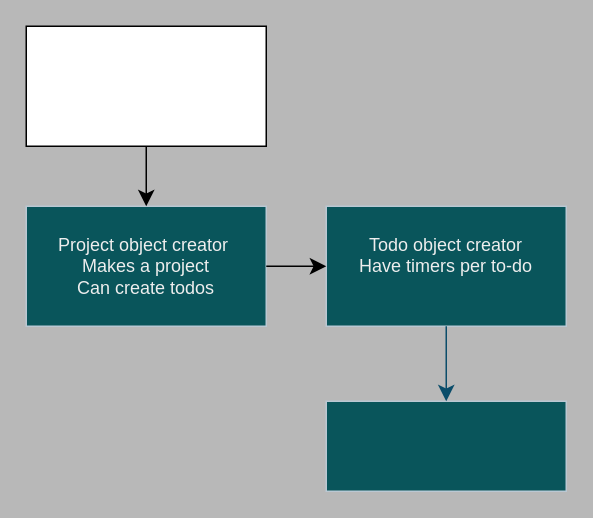
The diagram is 593 pixels wide and 518 high, and some of its shapes have lost their labels. Each missing label, with the box of its shape:
Basic todos Can be checked: (325, 400, 566, 491)
TRACKERS Most recent Completed Soon: (25, 25, 266, 146)
